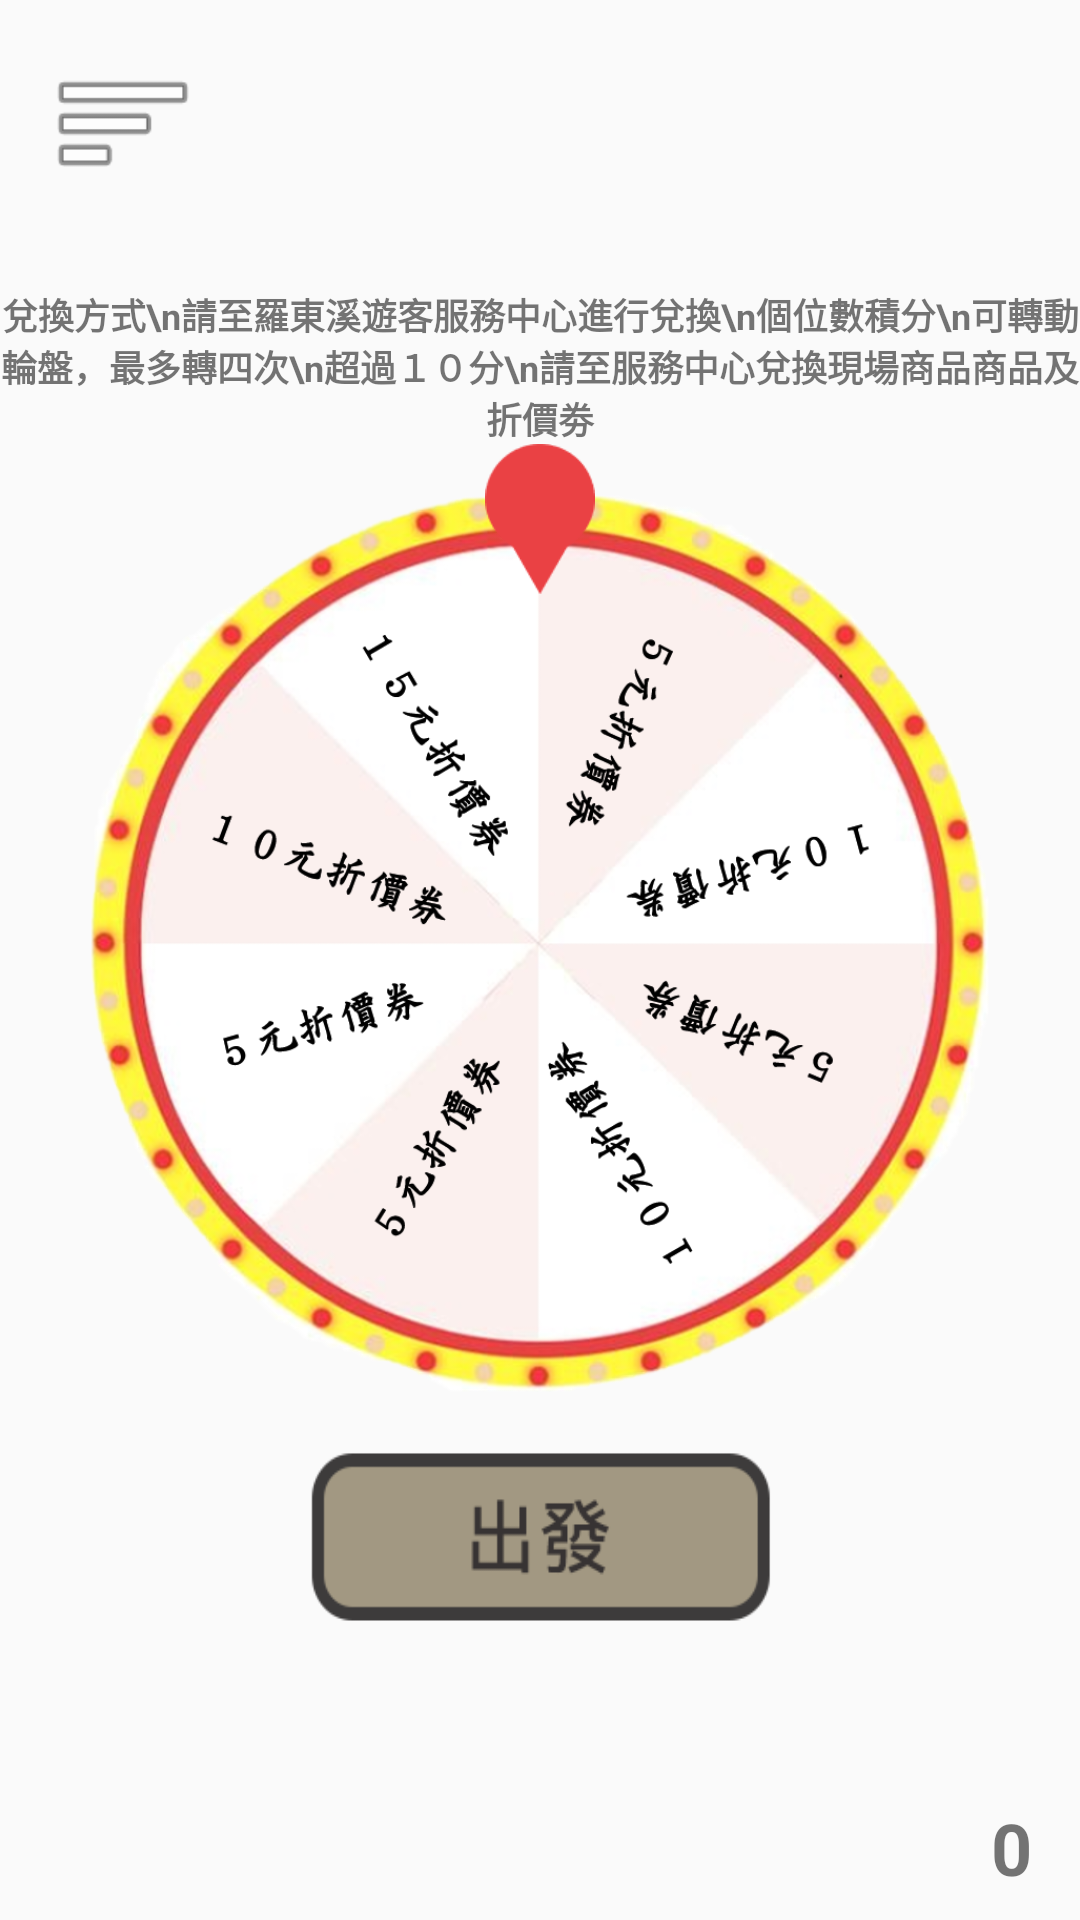

Where icons sit on this 1080×1920 app screen, as BBox(x1, y1, x2, y2):
sort by size: BBox(58, 82, 188, 166)
